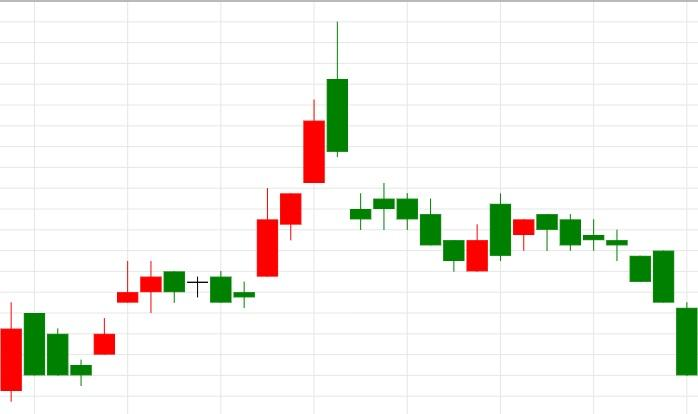bullish_engulfing_rise: (373, 183, 488, 272)
